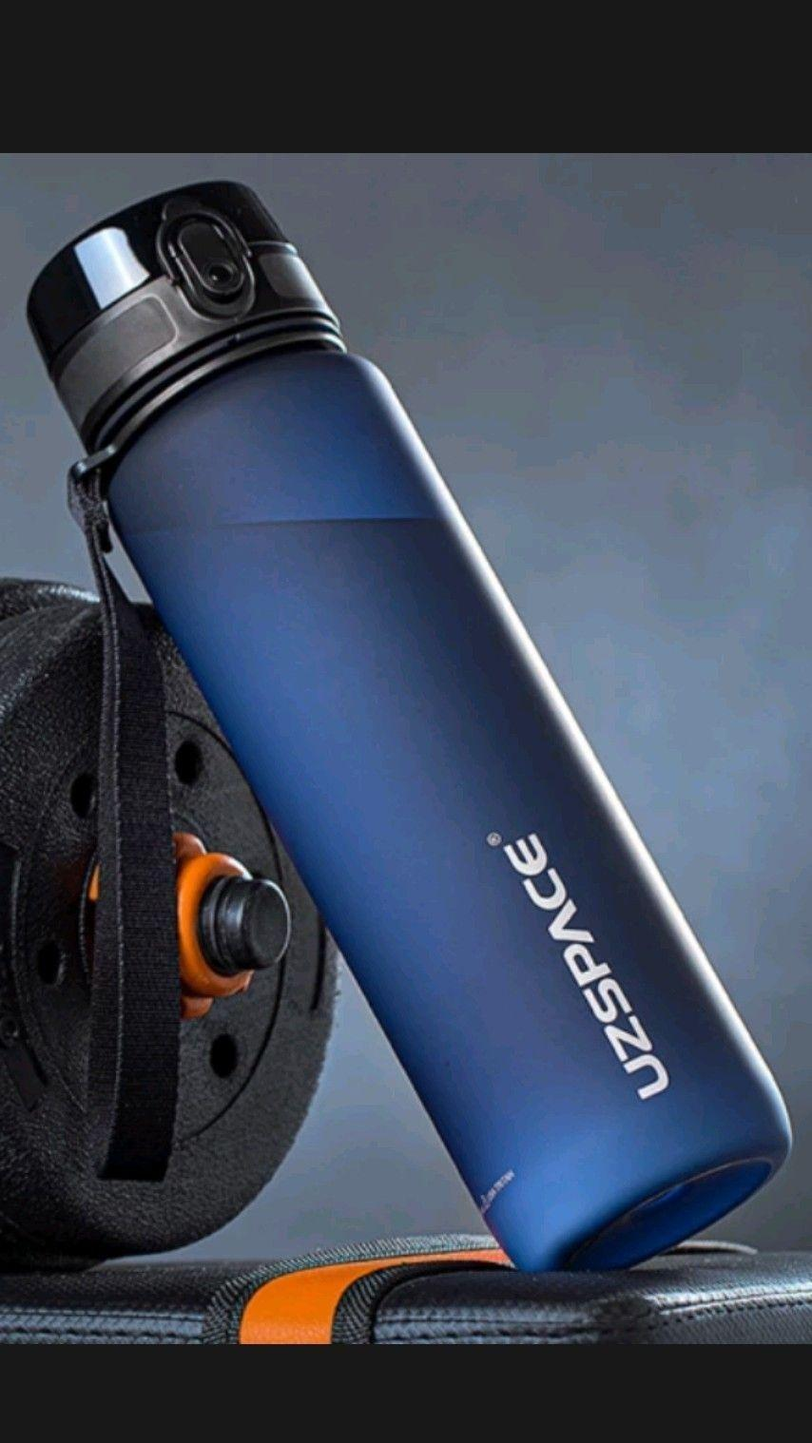gym bottle: (26, 183, 788, 1276)
